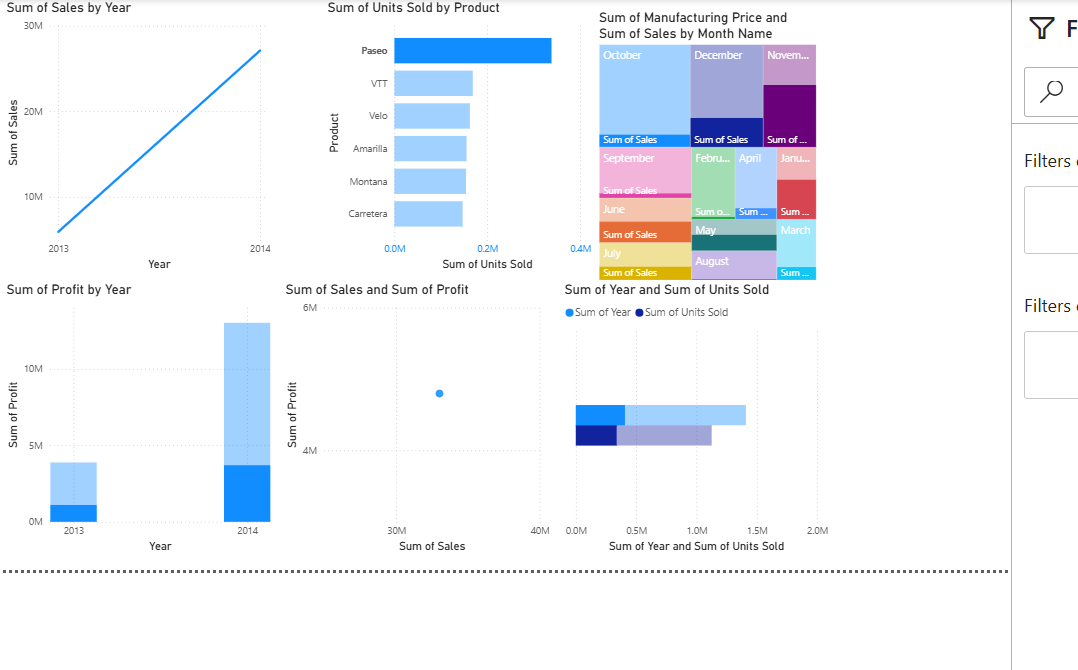

The page's visual inventory and layout, read from the dashboard file:
{"tool":"powerbi","page":{"name":"Page 1","canvas":[1280,720],"ordinal":0},"visuals":[{"type":"lineChart","fields":{"Category":["financials.Date.Variation.Date Hierarchy.Year","financials.Date.Variation.Date Hierarchy.Quarter","financials.Date.Variation.Date Hierarchy.Month","financials.Date.Variation.Date Hierarchy.Day"],"Y":["Sum(financials. Sales)"]},"box":[9.4,0,342,345.8],"z":0},{"type":"columnChart","fields":{"Category":["financials.Date.Variation.Date Hierarchy.Year","financials.Date.Variation.Date Hierarchy.Quarter","financials.Date.Variation.Date Hierarchy.Month","financials.Date.Variation.Date Hierarchy.Day"],"Y":["Sum(financials.Profit)"]},"box":[9,356,342,346],"z":1},{"type":"barChart","fields":{"Category":["financials.Product"],"Y":["Sum(financials.Units Sold)"]},"box":[413.9,0,342,345.8],"z":2},{"type":"scatterChart","fields":{"X":["Sum(financials. Sales)"],"Y":["Sum(financials.Profit)"]},"box":[361,356,342,346],"z":3},{"type":"clusteredBarChart","fields":{"Y":["Sum(financials.Year)","Sum(financials.Units Sold)"]},"box":[713,356,342,346],"z":4},{"type":"treemap","fields":{"Values":["Sum(financials.Manufacturing Price)","Sum(financials. Sales)"],"Group":["financials.Month Name","financials.Product"]},"box":[755.9,13.2,283.5,345.8],"z":5}]}

Visuals, with their boxes in screenshot pixels (x1, y1, x2, y2):
lineChart - financials.Date.Variation.Date Hierarchy.Year x financials.Date.Variation.Date Hierarchy.Quarter: Rect(10, 6, 284, 283)
columnChart - financials.Date.Variation.Date Hierarchy.Year x financials.Date.Variation.Date Hierarchy.Quarter: Rect(10, 291, 284, 568)
barChart - financials.Product x Sum(financials.Units Sold): Rect(334, 6, 608, 283)
scatterChart - Sum(financials. Sales) x Sum(financials.Profit): Rect(292, 291, 566, 568)
clusteredBarChart - Sum(financials.Year) x Sum(financials.Units Sold): Rect(574, 291, 848, 568)
treemap - Sum(financials.Manufacturing Price) x Sum(financials. Sales): Rect(608, 16, 835, 293)
